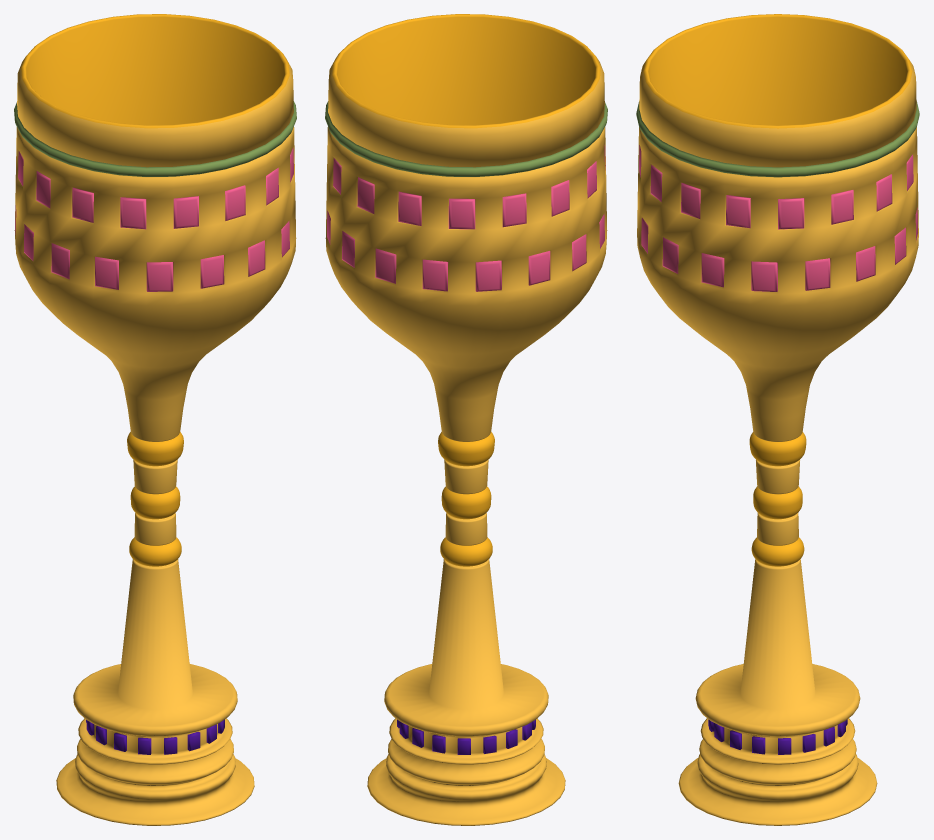
Rendered from goblle.glb.
The picture shows the model from 3 angles, left to right: view 1: azimuth 30°, elevation 25°; view 2: azimuth 150°, elevation 25°; view 3: azimuth 270°, elevation 25°; orthographic projection.
Parts seen in each view (by area): view 1: Cylinder; view 2: Cylinder; view 3: Cylinder.
Part boxes in pixels (x1,y1,x2,y2): Cylinder: (14, 14, 296, 825); Cylinder: (325, 14, 607, 825); Cylinder: (636, 14, 919, 825).
Bounding box in the file's own units: 2.86 × 7.94 × 2.86.
